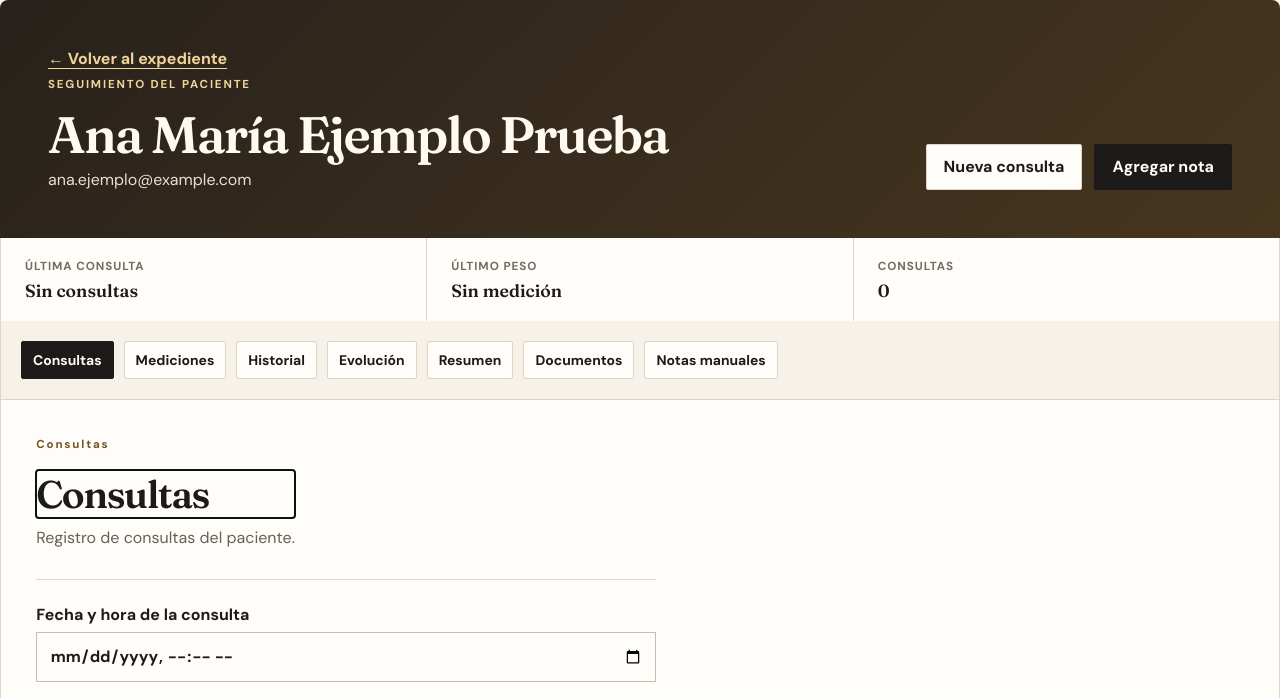
Test: presentación de seguimiento › presenta cada sección como una vista, no como una respuesta serializada
Earlier steps of the test are not shown.
Check: the heading "Consultas" is shown, box [36,470,209,518]
Check: the button "Consultas" is marked as current, box [21,341,114,379]
Click the button "Mediciones": (175, 360) [124,341,226,379]
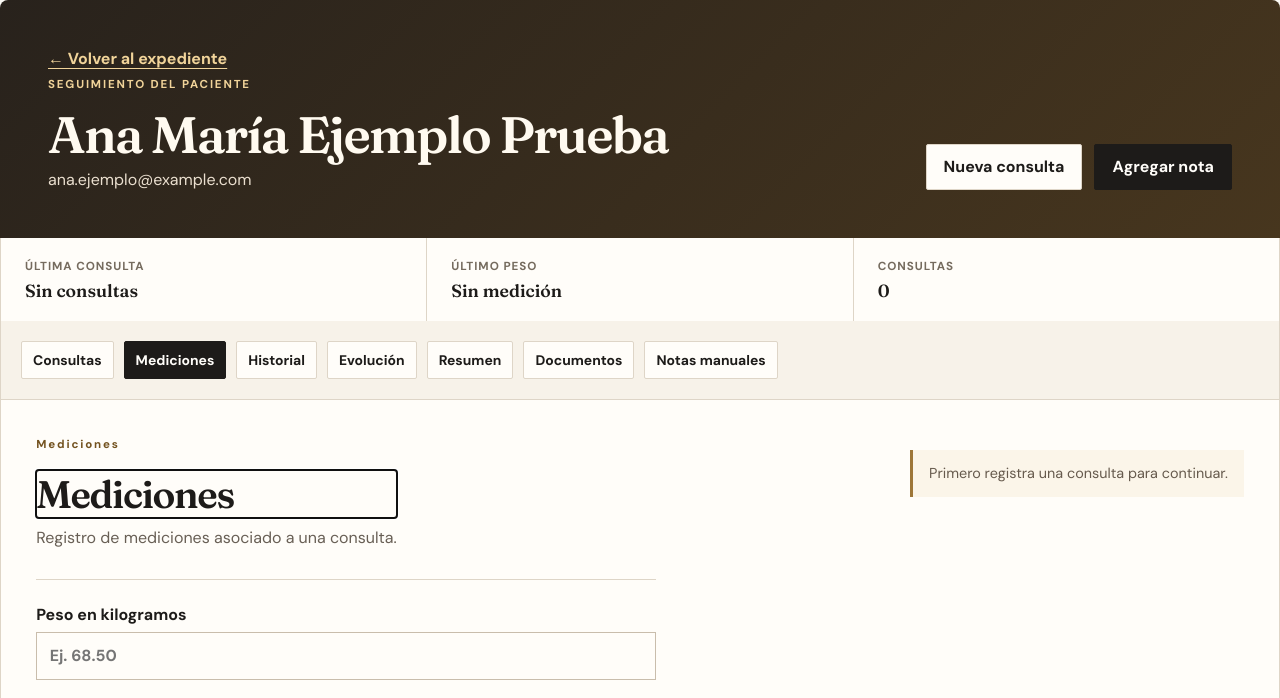
Check: the heading "Mediciones" is shown, box [36,470,234,518]
Click the button "Historial": (277, 360) [236,341,317,379]
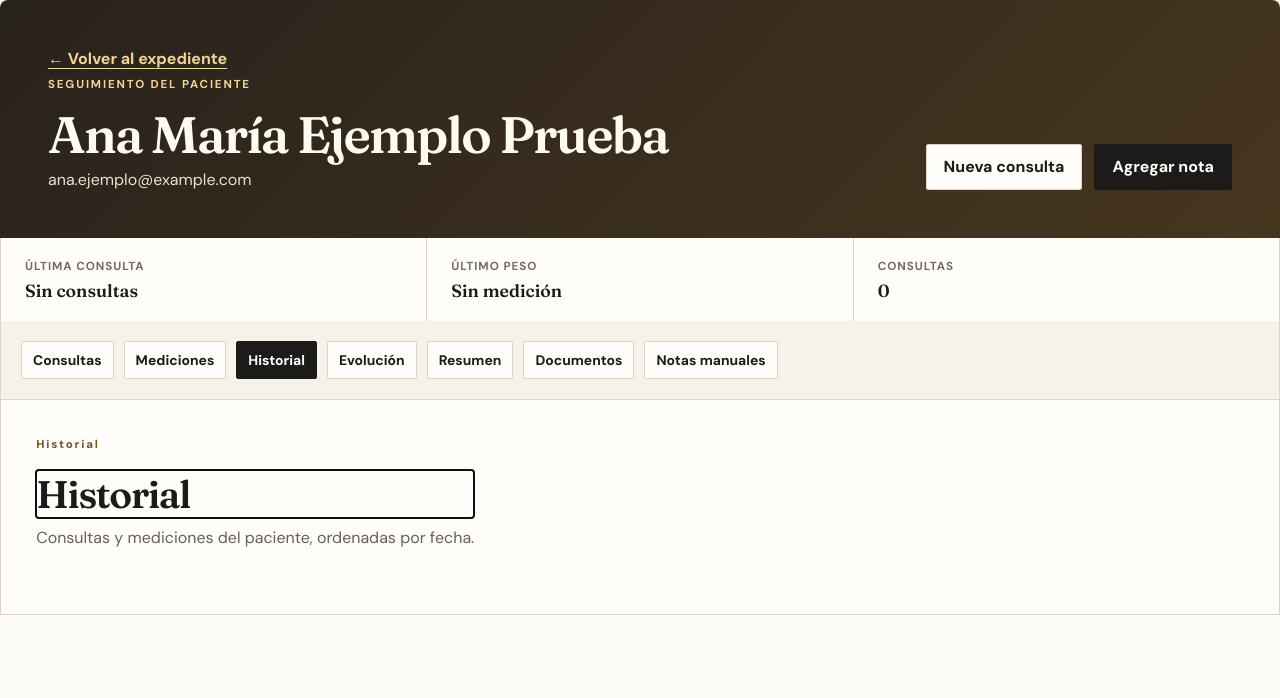
Check: the heading "Historial" is shown, box [36,470,190,518]
Click the button "Evolución": (372, 360) [327,341,417,379]
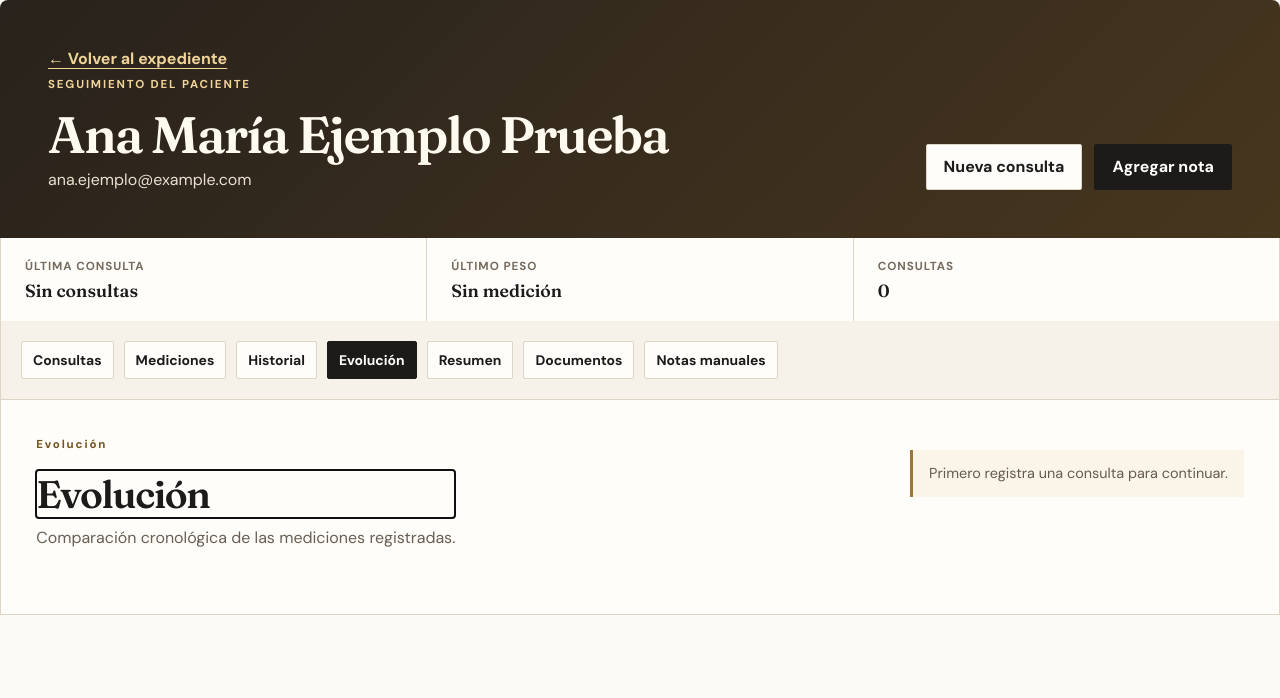
Check: the heading "Evolución" is shown, box [36,470,210,518]
Click the button "Resumen": (470, 360) [427,341,513,379]
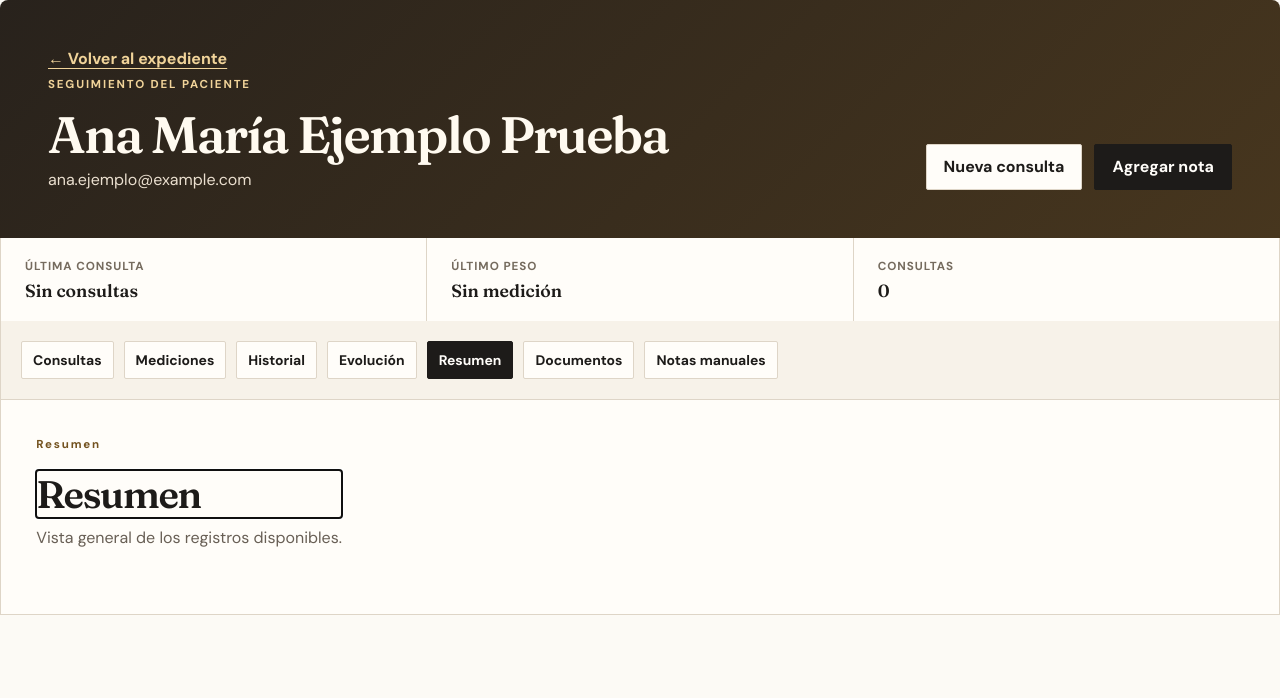
Check: the heading "Resumen" is shown, box [36,470,201,518]
Click the button "Documentos": (579, 360) [523,341,634,379]
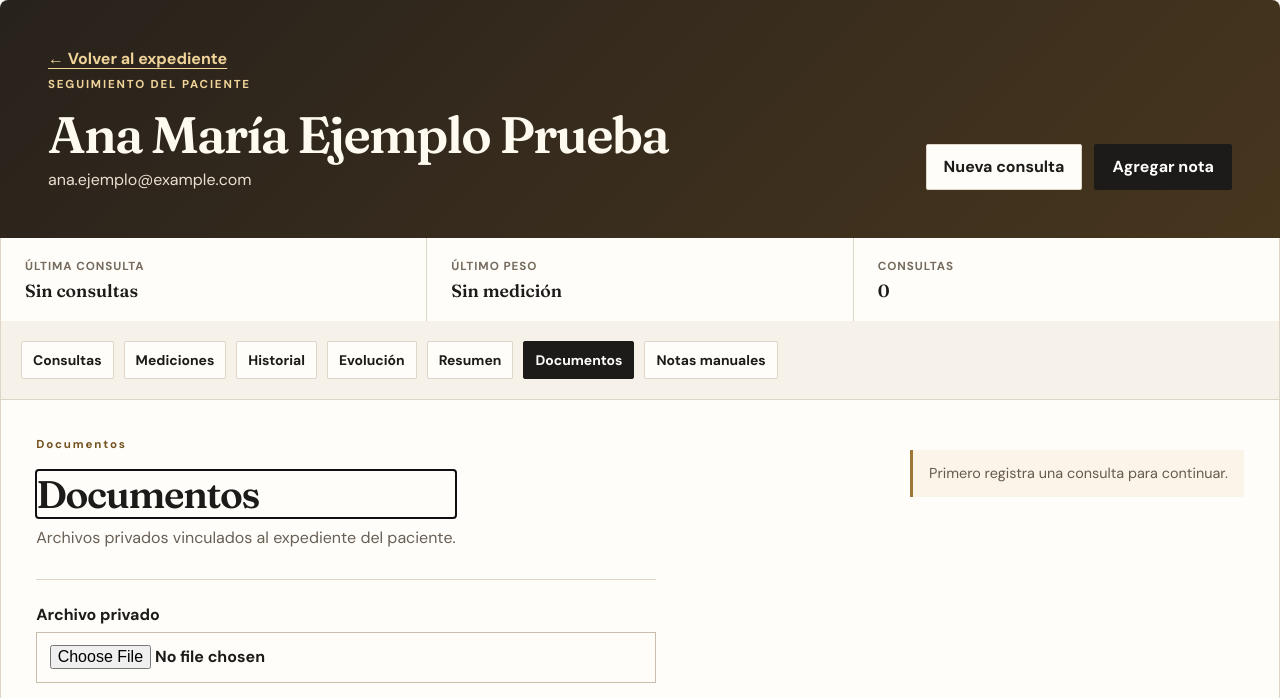
Check: the heading "Documentos" is shown, box [36,470,259,518]
Click the button "Notas manuales": (711, 360) [644,341,778,379]
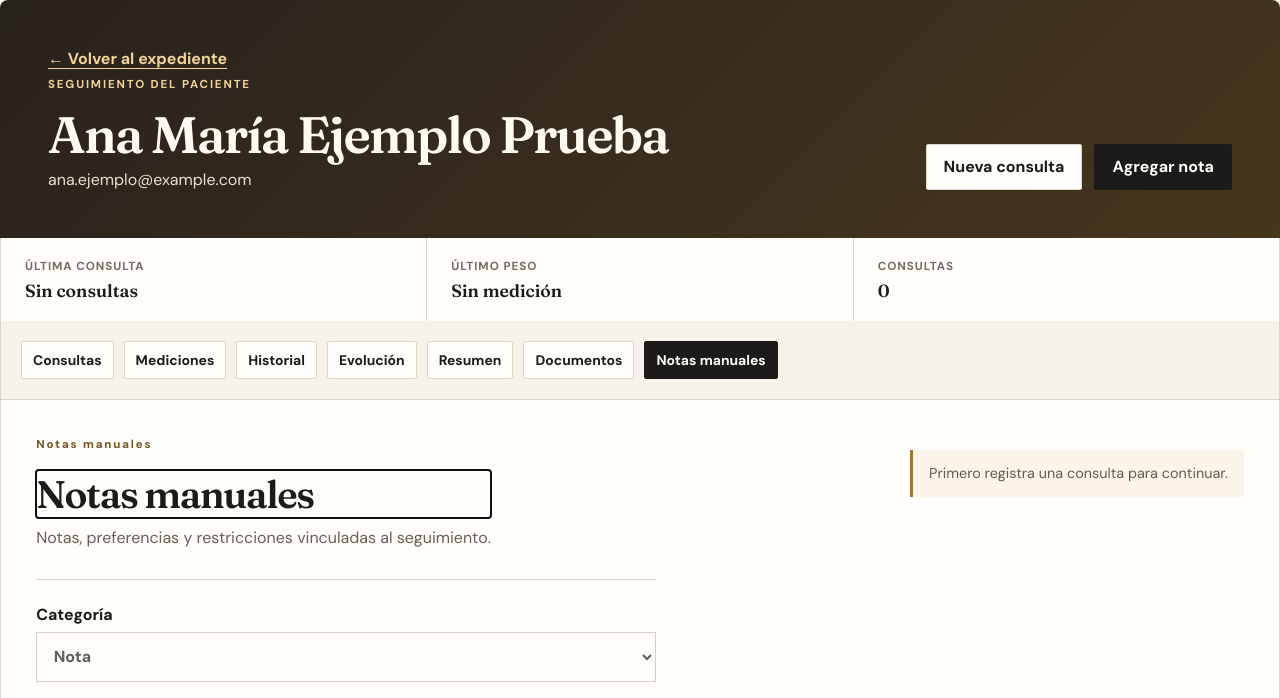
Check: the heading "Notas manuales" is shown, box [36,470,314,518]
